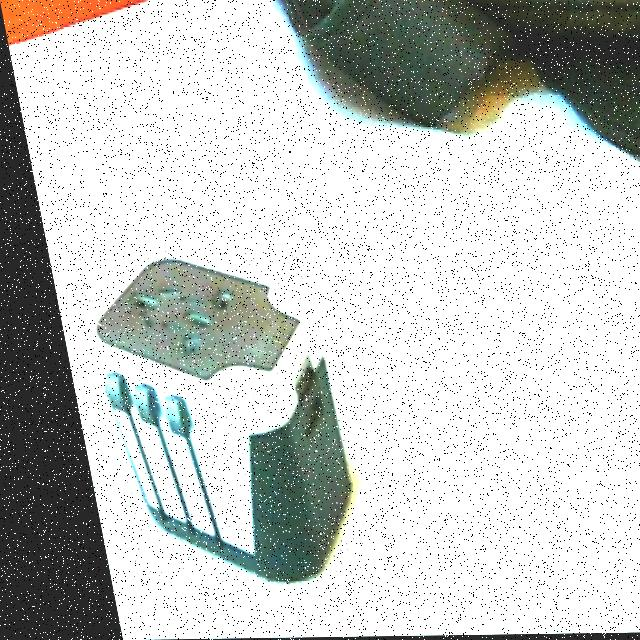adapter: (61, 249, 348, 584)
